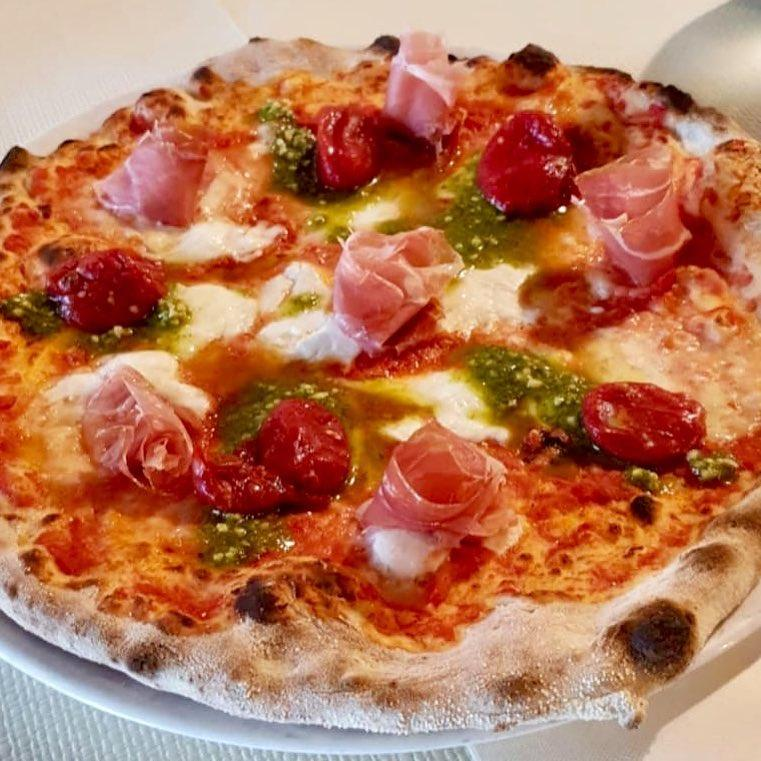Cheese: (170, 265, 332, 340), (451, 261, 541, 342), (43, 350, 176, 388), (407, 376, 502, 425), (169, 226, 287, 265)
Ham: (577, 150, 694, 294), (367, 426, 502, 542), (336, 232, 450, 341), (86, 127, 208, 227), (91, 364, 184, 480), (384, 33, 464, 123)
Pizza: (0, 45, 761, 730)
Tomatoes: (201, 404, 346, 509), (583, 378, 706, 465), (479, 113, 572, 216), (57, 248, 168, 328), (307, 104, 382, 183)
